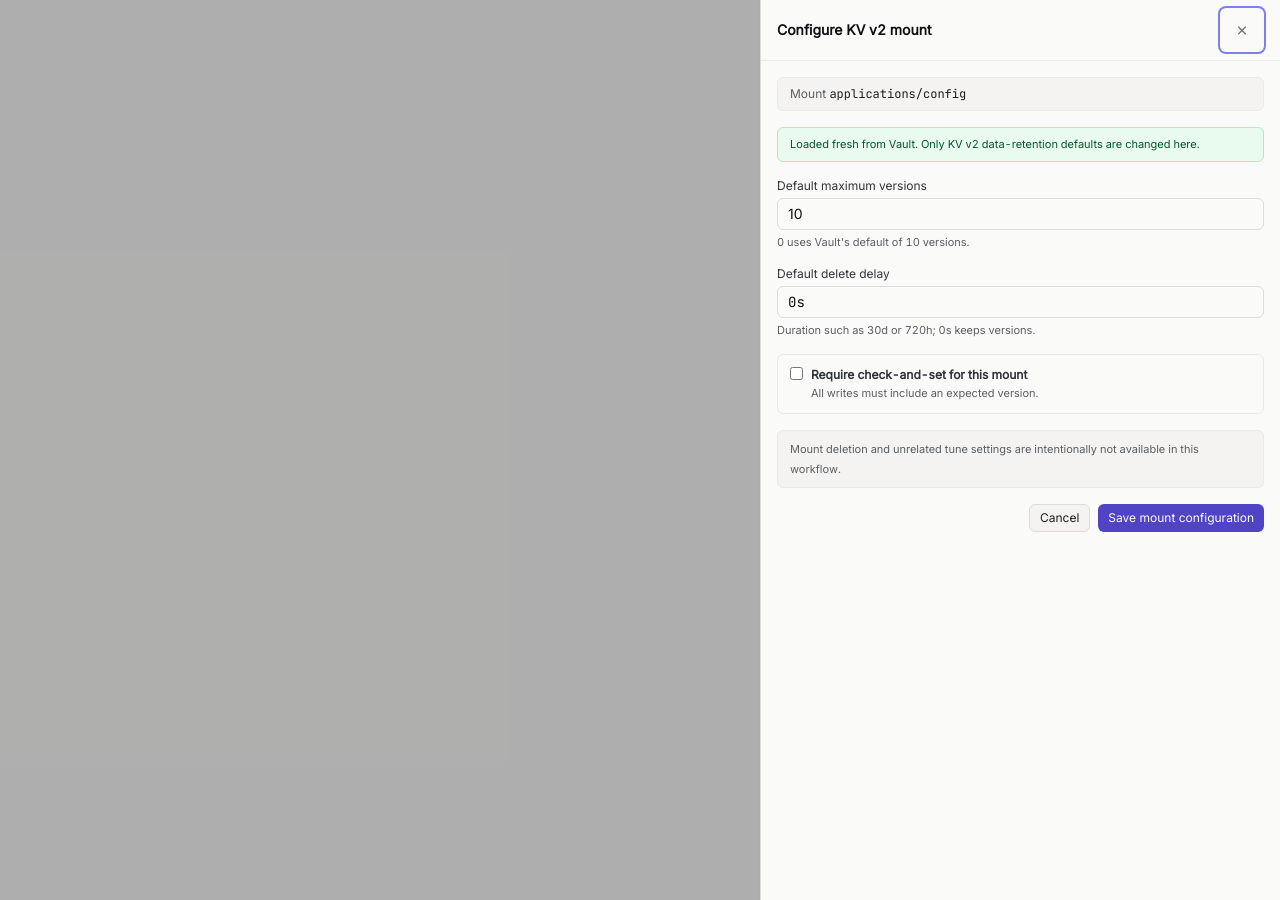
Test: KvMountConfigDrawer › blocks invalid retention defaults
The width and height of the screenshot is (1280, 900).
Expected: the text "Only KV v2 data-retention defaults" is shown, x1=790 y1=137 x2=1200 y2=151
Type "later" into the field labelled "Default delete delay" at (1020, 302), box x1=777 y1=286 x2=1264 y2=318
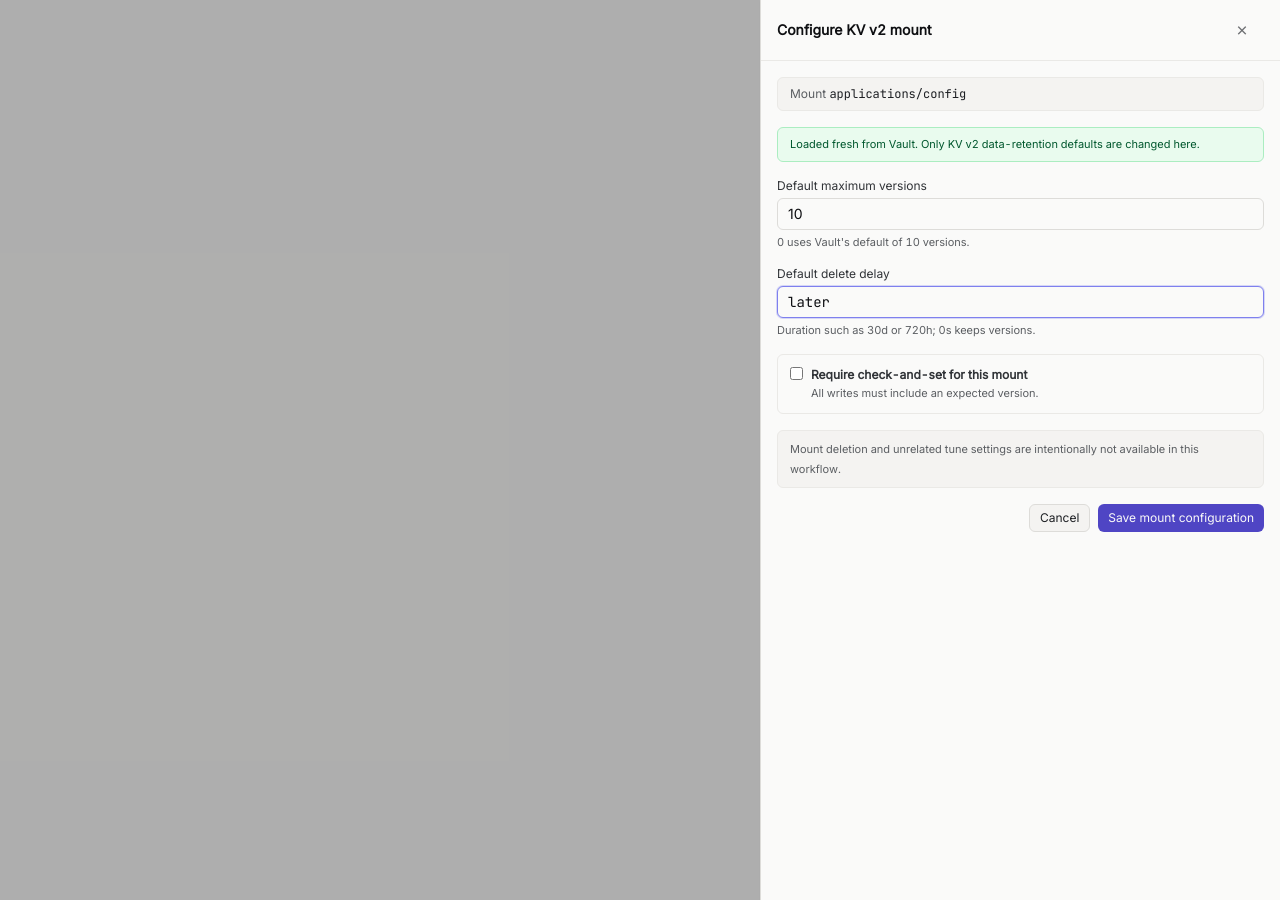
Click the button "Save mount configuration" at (1181, 518), box x1=1098 y1=504 x2=1264 y2=532
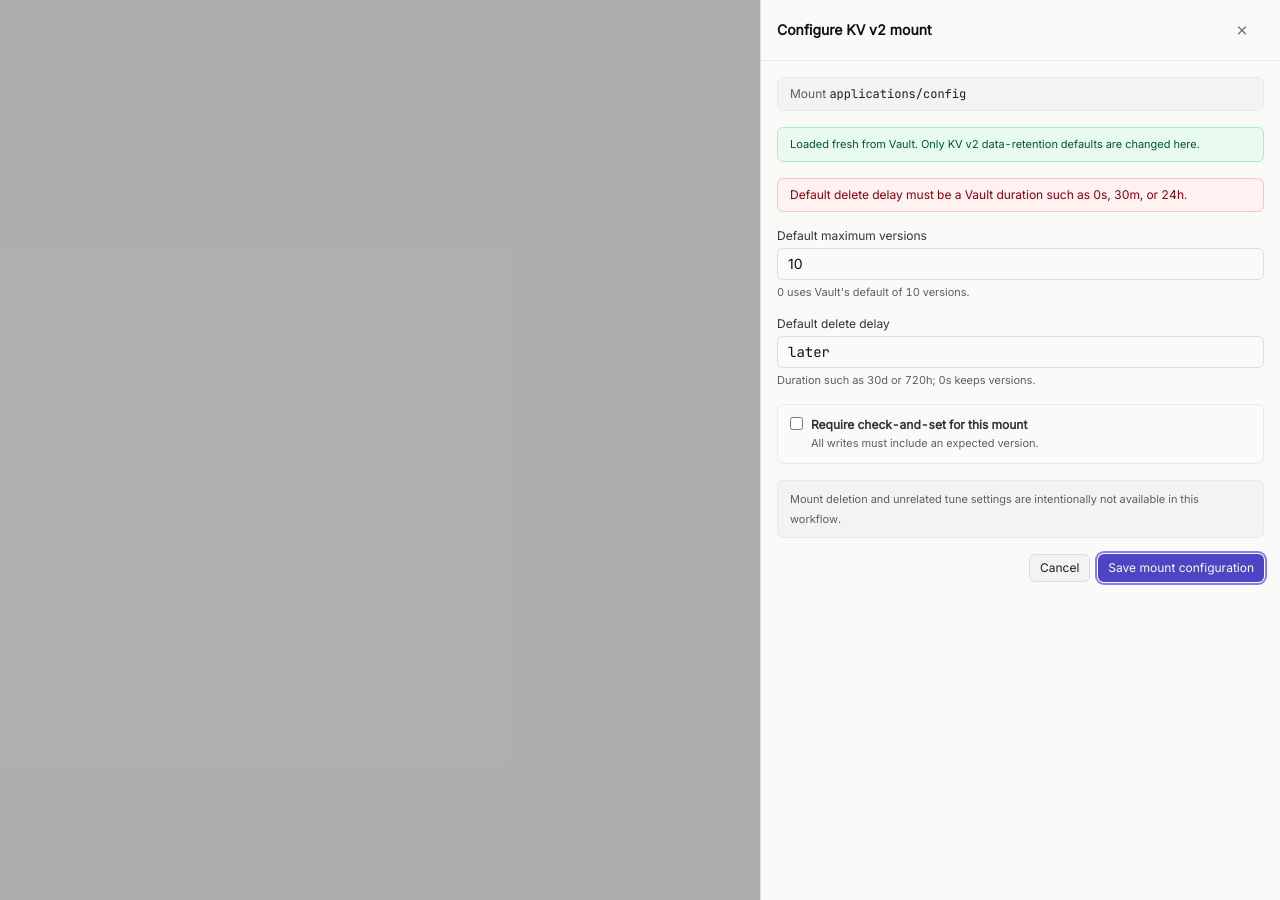
Result: the text "Default delete delay must be a Vault duration" is shown at x1=790 y1=186 x2=1187 y2=202
